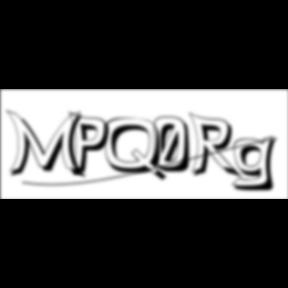0: (154, 115, 198, 174)
M: (6, 108, 90, 181)
P: (68, 110, 115, 180)
Q: (104, 117, 170, 184)
R: (188, 112, 246, 182)
g: (232, 134, 284, 194)
